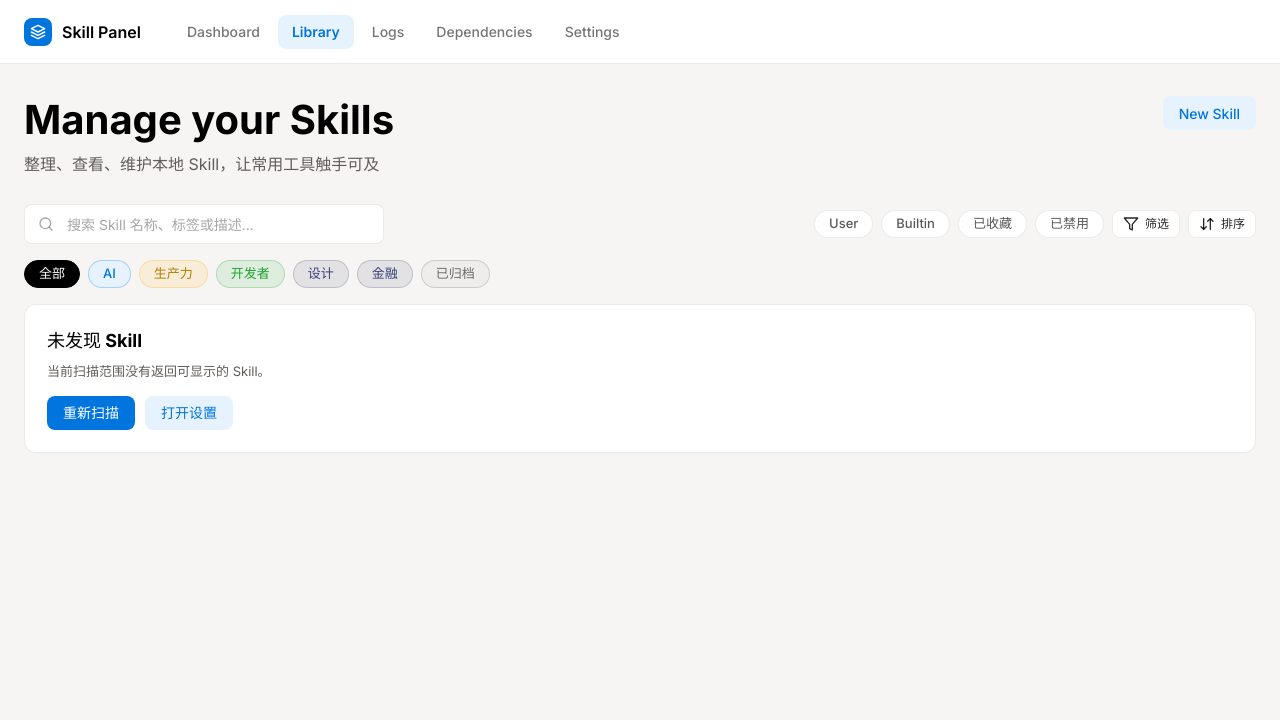
Test: App navigation and page shell › opens New Skill as a secondary workflow and returns to Library after creation
Click the button "New Skill" at (1209, 113), box top-left (1163, 96), bottom-right (1256, 130)
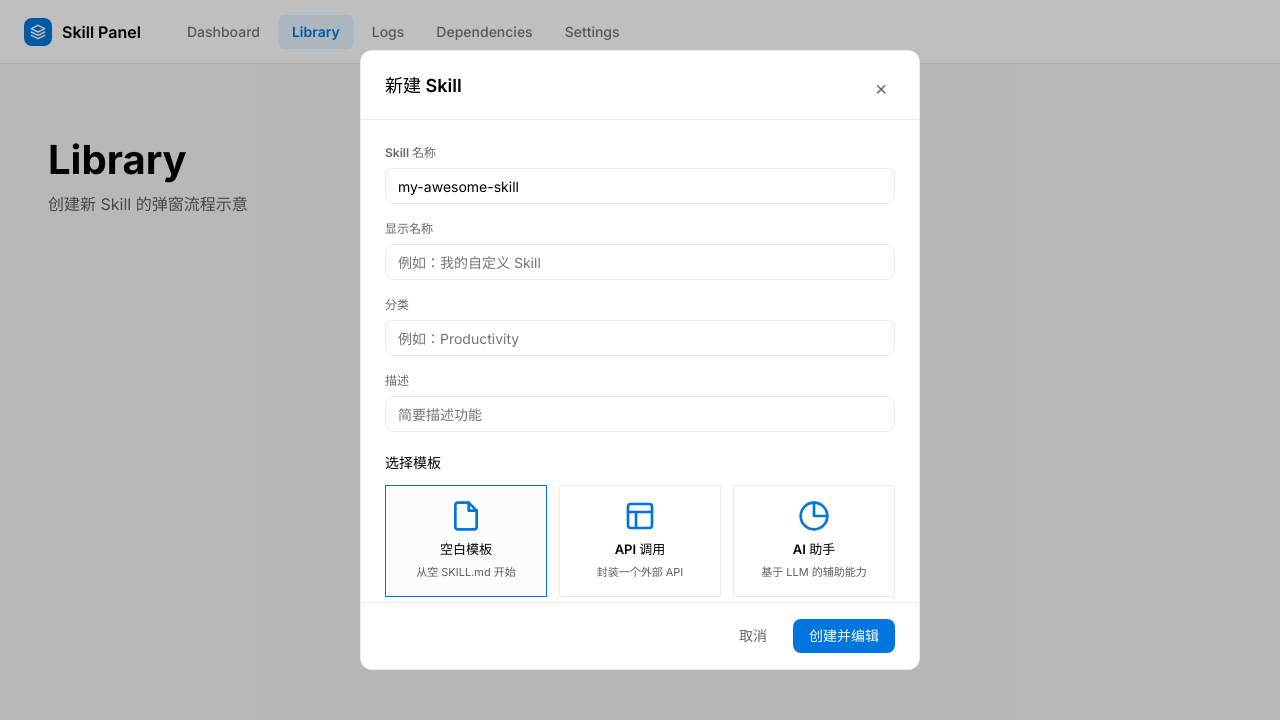
Check: the heading "新建 Skill" is shown, box top-left (385, 72), bottom-right (462, 99)
Type "Demo" into the field with placeholder "简要描述功能" at (640, 414), box top-left (385, 396), bottom-right (895, 432)
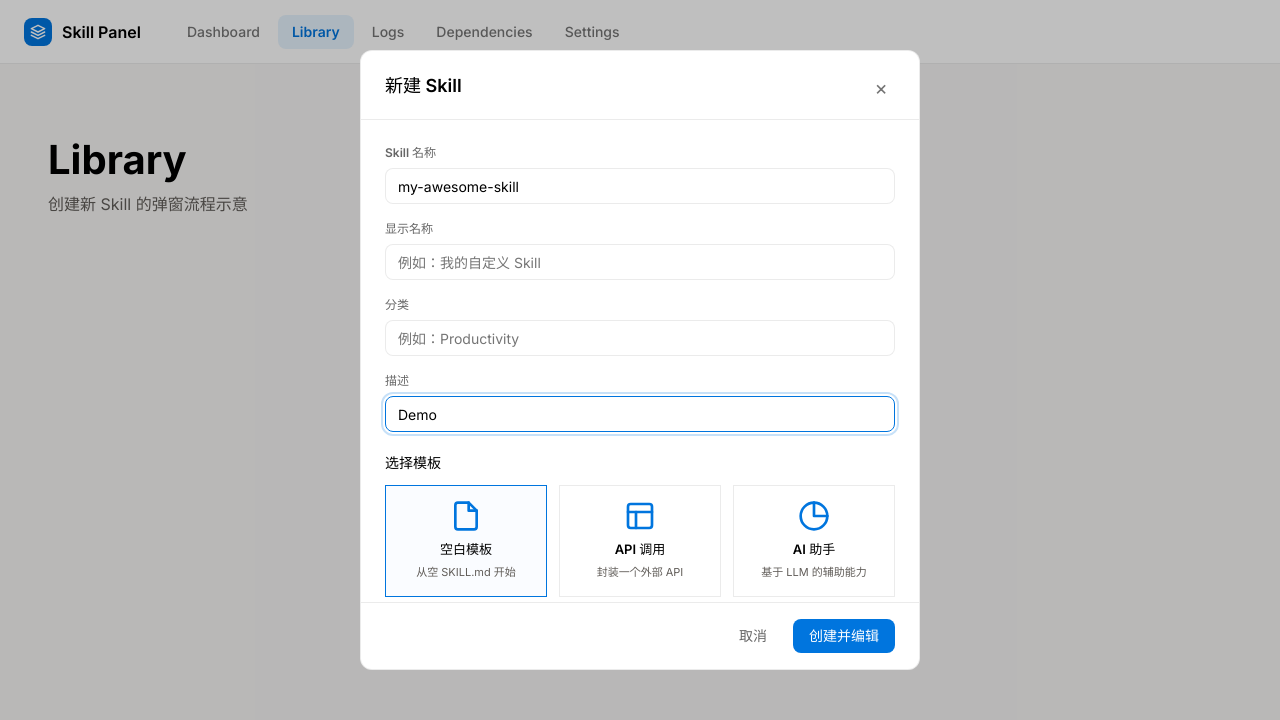
Click the button "创建并编辑" at (844, 636), box top-left (793, 619), bottom-right (895, 653)
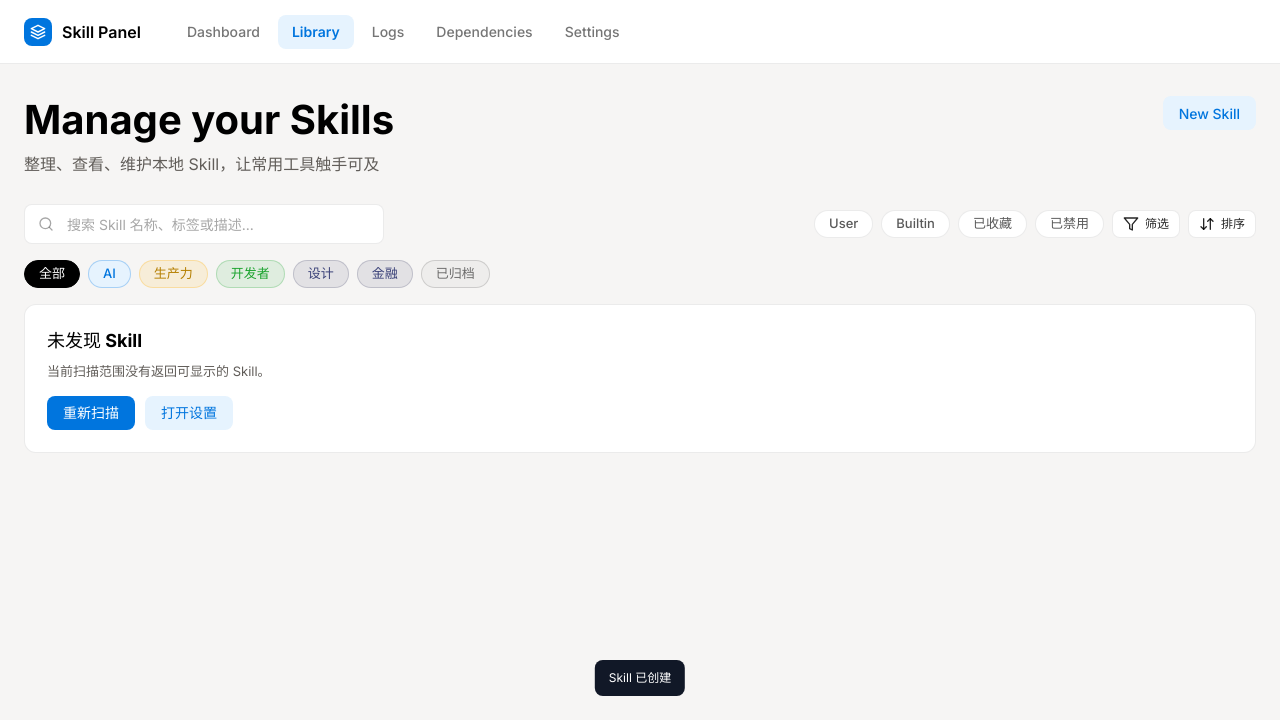
Check: the heading "Manage your Skills" is shown, box top-left (24, 96), bottom-right (394, 144)
